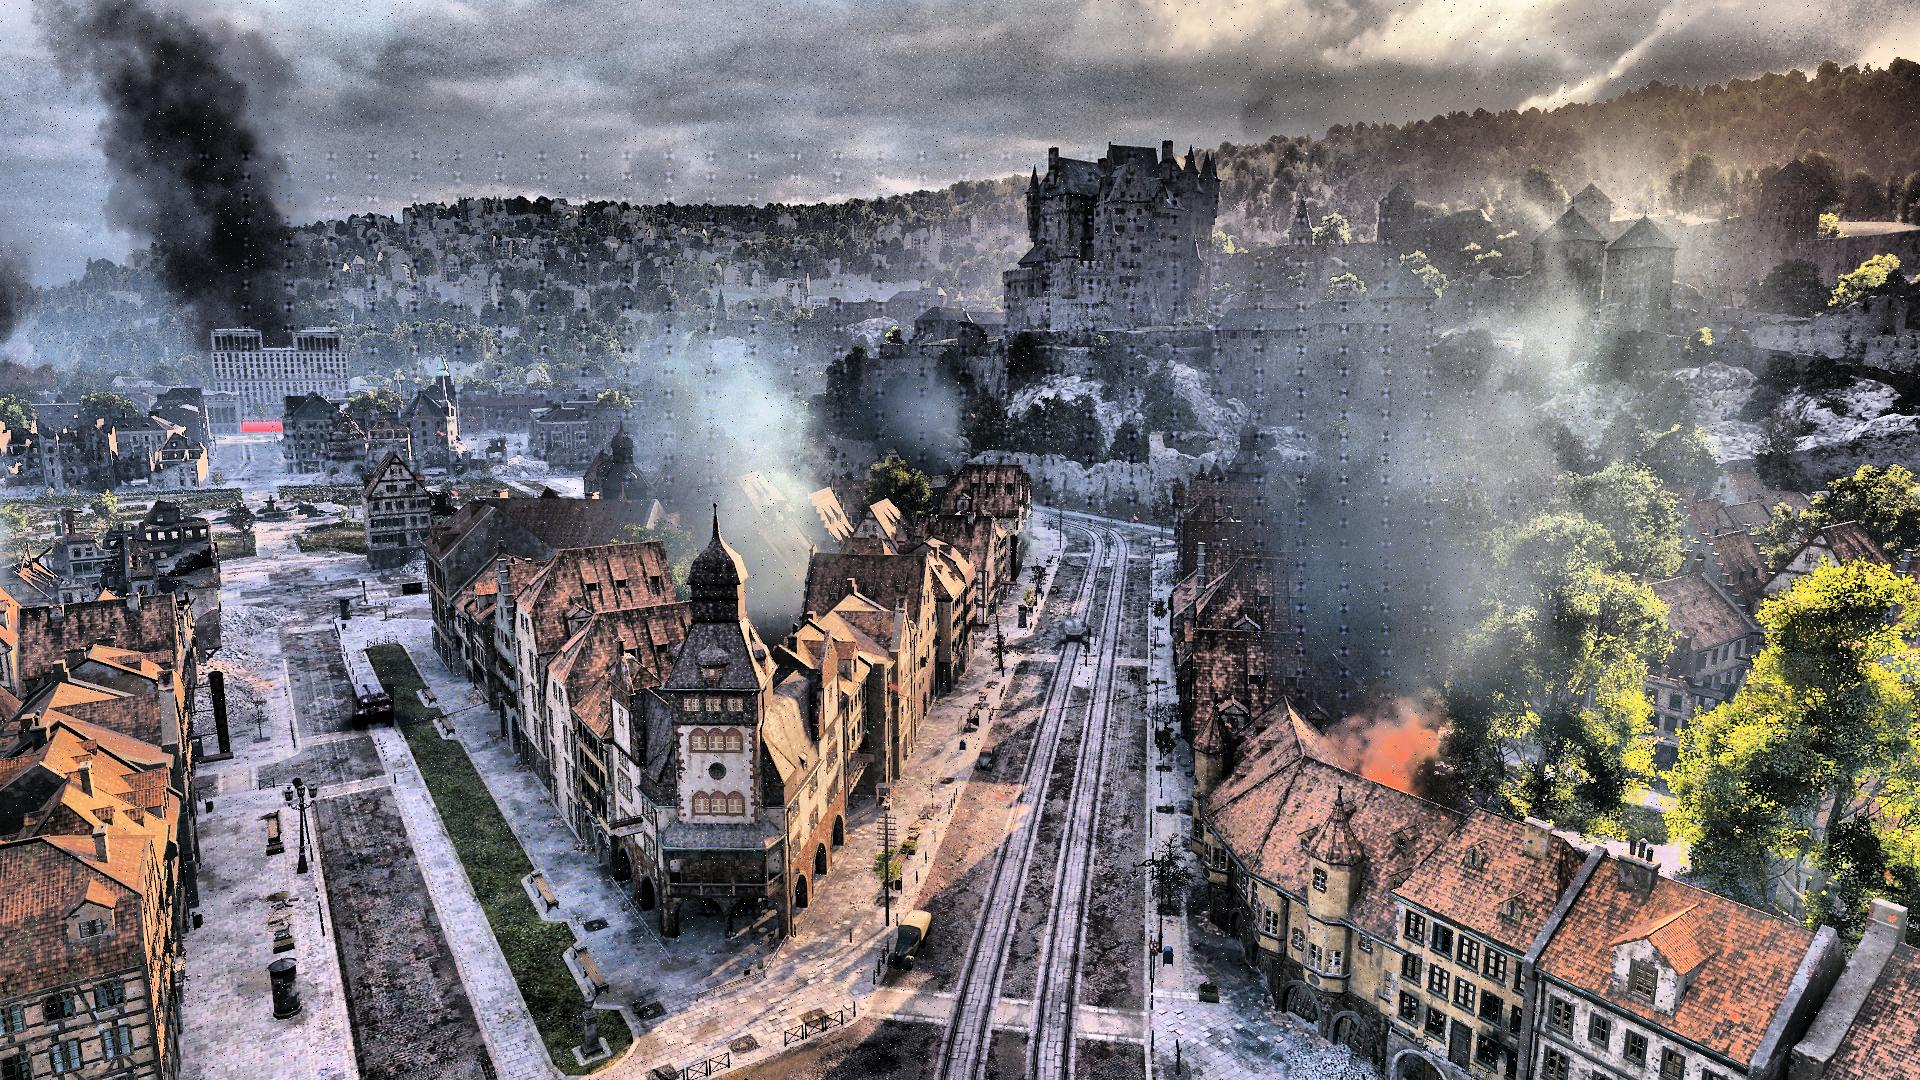military-vehicle: (352, 684, 394, 731)
